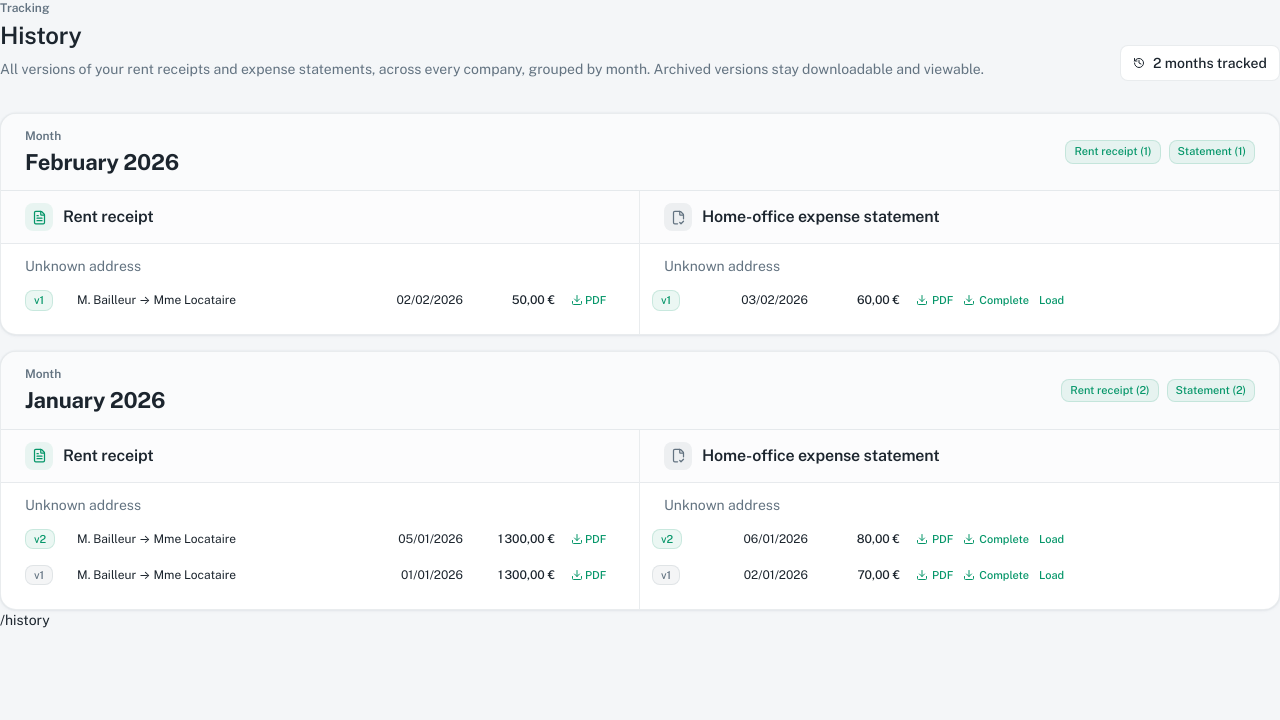
Scenario: HistoryPage › reloads a statement with the English dialog and toast
Check: the text "2 months tracked" is shown, box [1120,45,1279,81]
Click the button "Load" in the row of "02/01/2026": click(1052, 575) [1035,564,1068,586]
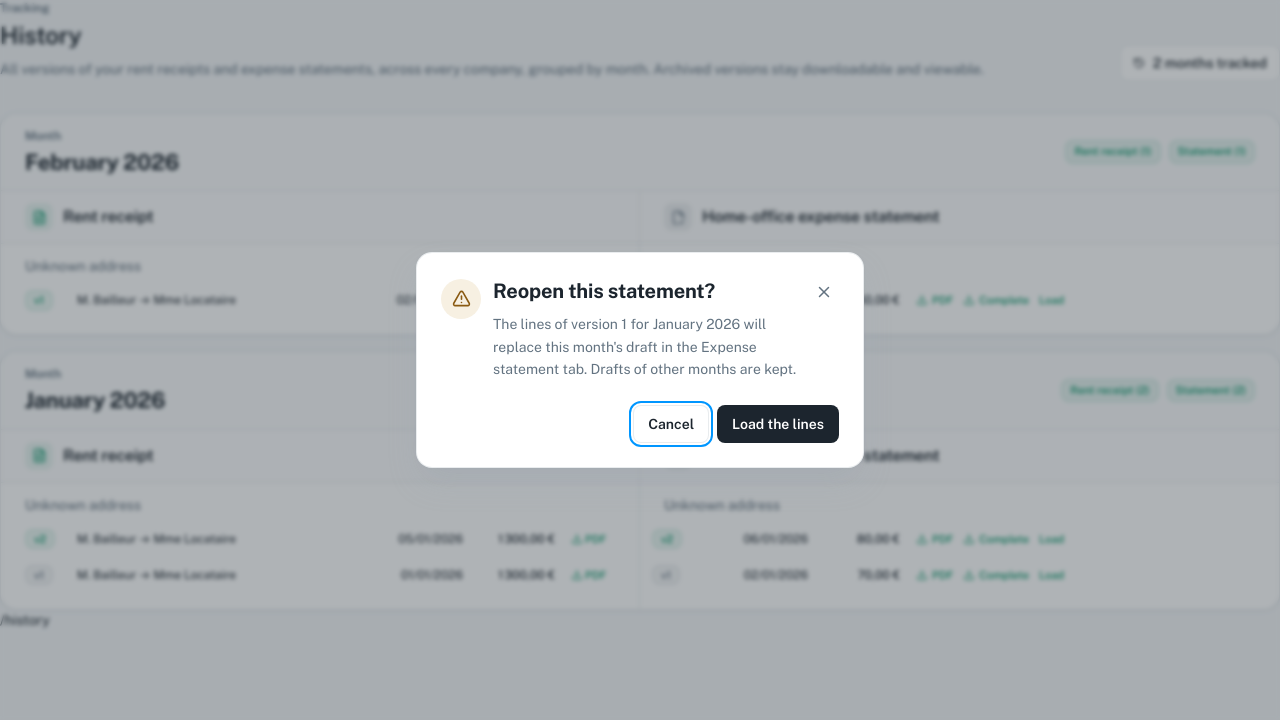
Check: the dialog "Reopen this statement?" shows "The lines of version 1 for January 2026 will replace this month's draft", box [493,316,796,377]
Click the button "Load the lines": click(778, 424) [717,405,839,443]
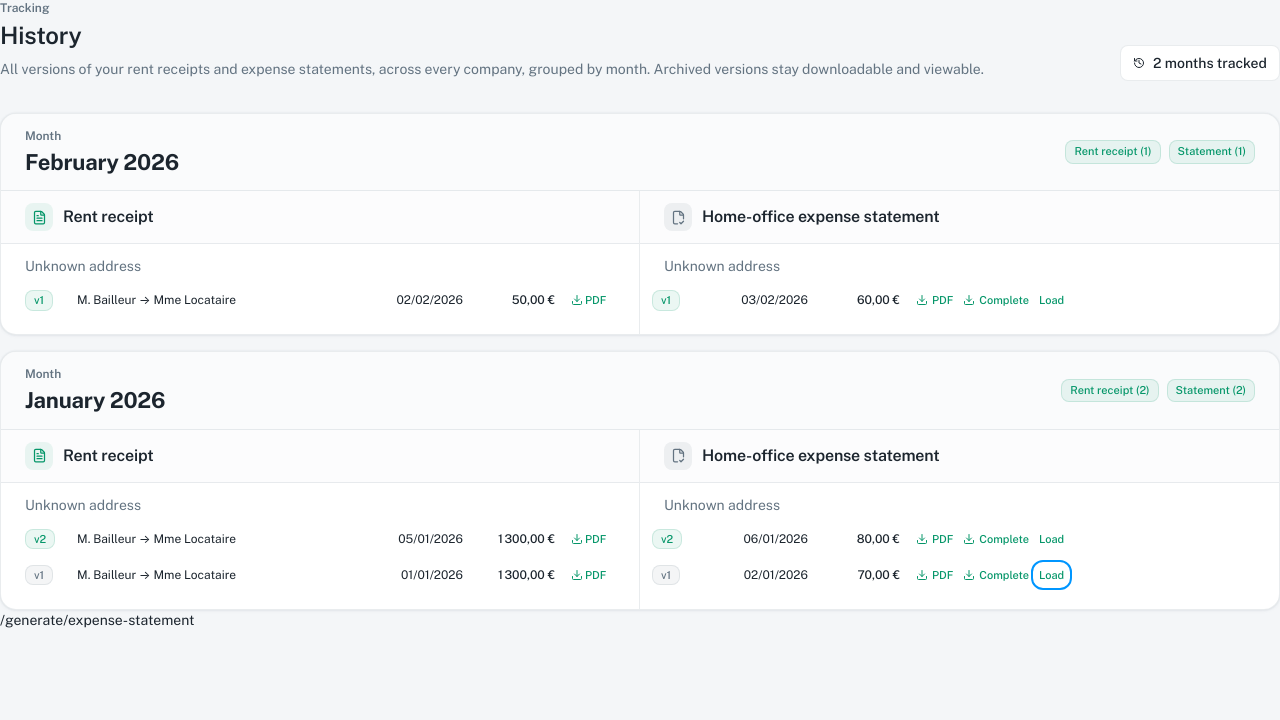
Check: the text with test id "rental" reads "/generate/expense-statement", box [0,612,194,628]
